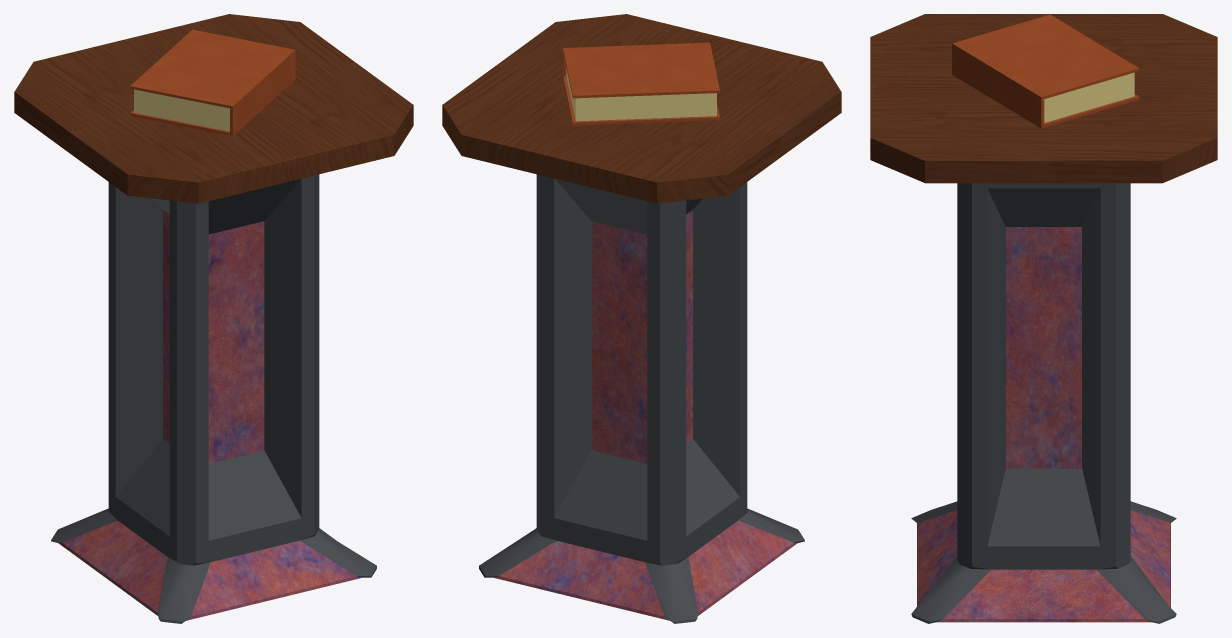
File: ItemStandwBook.glb
3 views of the same model, side by side, from view 1: azimuth 30°, elevation 25°; view 2: azimuth 150°, elevation 25°; view 3: azimuth 270°, elevation 25° (orthographic). The views are drawn at different scales.
Parts seen in each view (by area): view 1: Stand, Book; view 2: Stand, Book; view 3: Stand, Book.
Boxes of the visible parts, x1,y1,x2,y2 form: Stand: [14, 14, 413, 623]; Book: [130, 29, 295, 135]; Stand: [442, 14, 841, 623]; Book: [563, 42, 719, 125]; Stand: [870, 14, 1217, 623]; Book: [952, 14, 1139, 128].
Bounding box in the file's own units: 0.598 × 0.9724 × 0.598.
4 materials, 3 textured.
